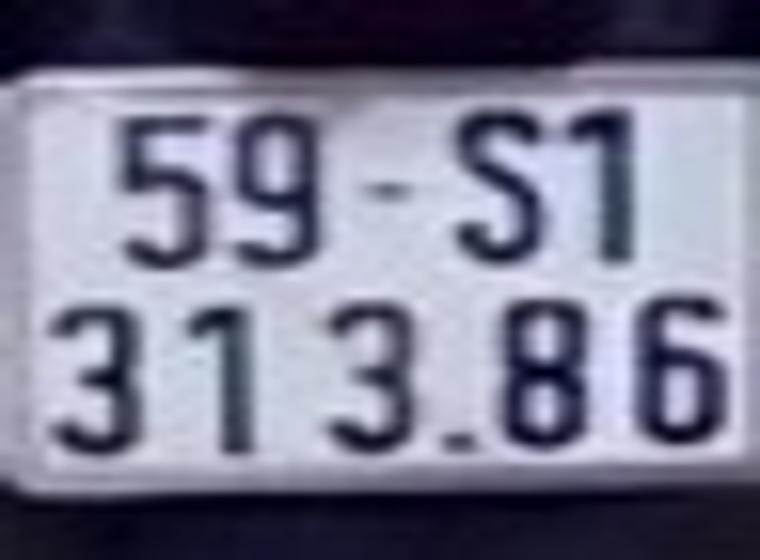-: (364, 176, 416, 208)
.: (440, 418, 483, 466)
1: (188, 296, 270, 459), (573, 105, 645, 268)
3: (46, 297, 151, 455), (321, 294, 416, 460)
5: (112, 106, 218, 272)
6: (628, 290, 738, 448)
8: (498, 292, 596, 453)
9: (223, 109, 326, 281)
